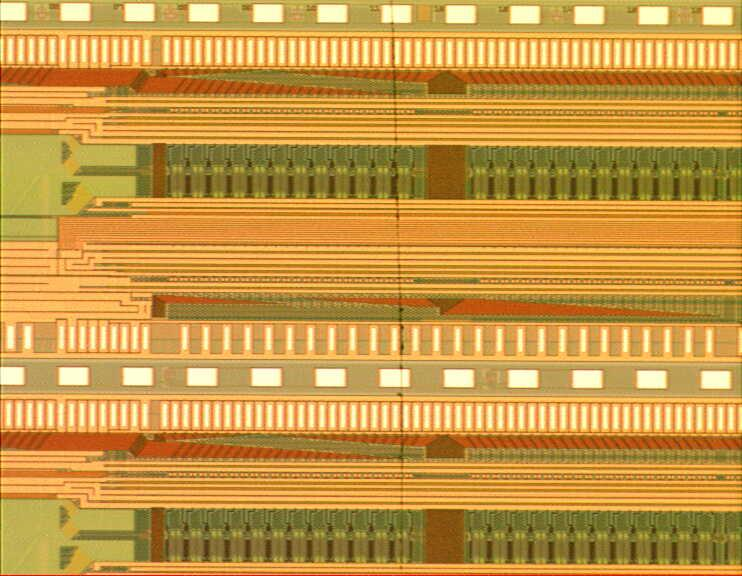SCRATCH: (386, 1, 411, 576)
